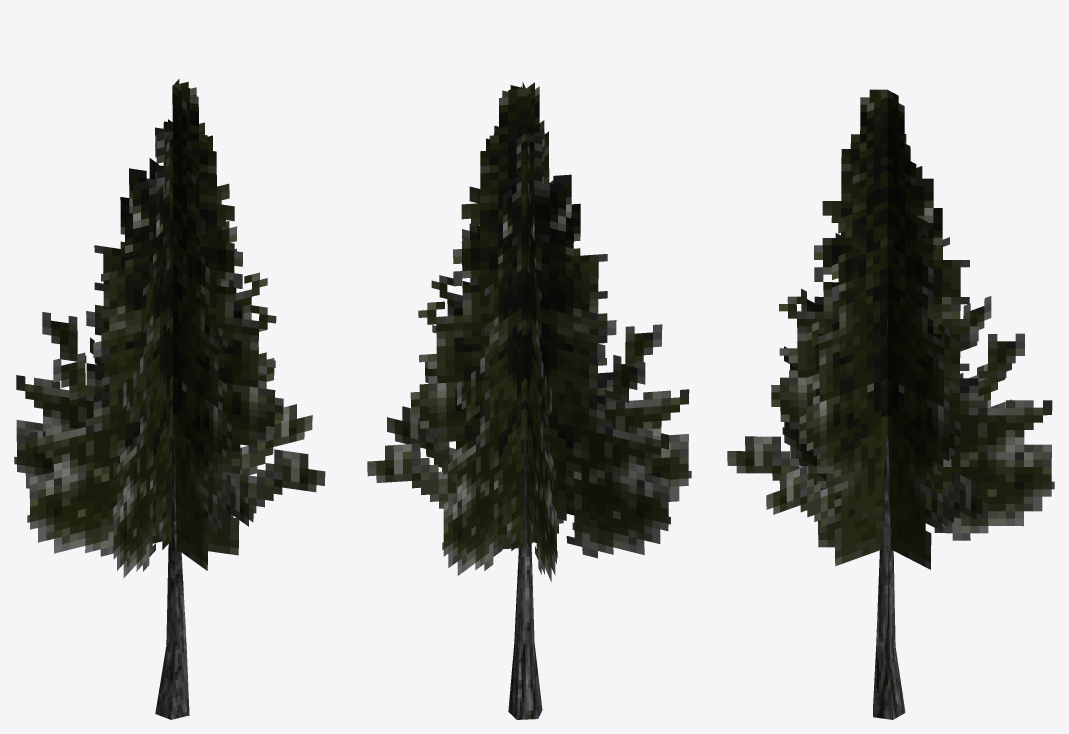
The model's file is Green Tree.glb.
The picture shows the model from 3 angles, left to right: view 1: azimuth 30°, elevation 25°; view 2: azimuth 150°, elevation 25°; view 3: azimuth 270°, elevation 25°; orthographic projection.
Parts seen in each view (by area): view 1: Plane.002, Trunk.002; view 2: Plane.002, Trunk.002; view 3: Plane.002, Trunk.002.
Boxes of the visible parts, x1,y1,x2,y2 form: Plane.002: (14, 79, 325, 578); Trunk.002: (155, 435, 189, 719); Plane.002: (367, 82, 691, 581); Trunk.002: (508, 437, 542, 719); Plane.002: (727, 89, 1054, 569); Trunk.002: (873, 437, 905, 719).
Bounding box in the file's own units: 16.61 × 34.45 × 16.61.
1 material, 1 textured.
